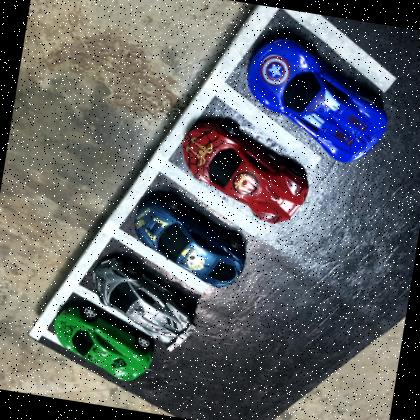Car: (236, 32, 400, 169), (172, 120, 316, 229), (82, 251, 206, 357), (127, 196, 252, 293), (46, 304, 158, 386)
